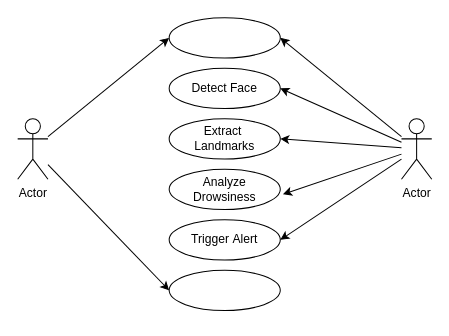
Some shapes in this 449 by 336 pixel diagram are drawn without their labels. The centre of each missing label's shape, as x and y in pixels:
"Capture Video" belongs at (224,37).
"Receive Alert" belongs at (224,290).
